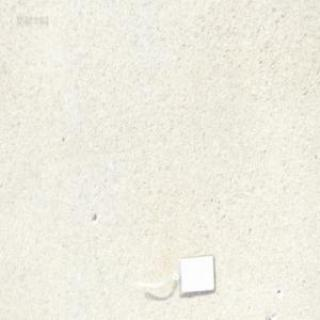LuggageTagtrack_idkeyframe: (133, 250, 215, 296)
